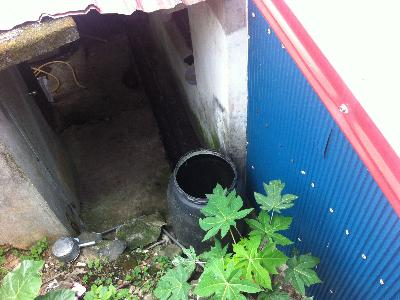bowl: (50, 237, 81, 265)
bucket: (165, 148, 246, 272)
